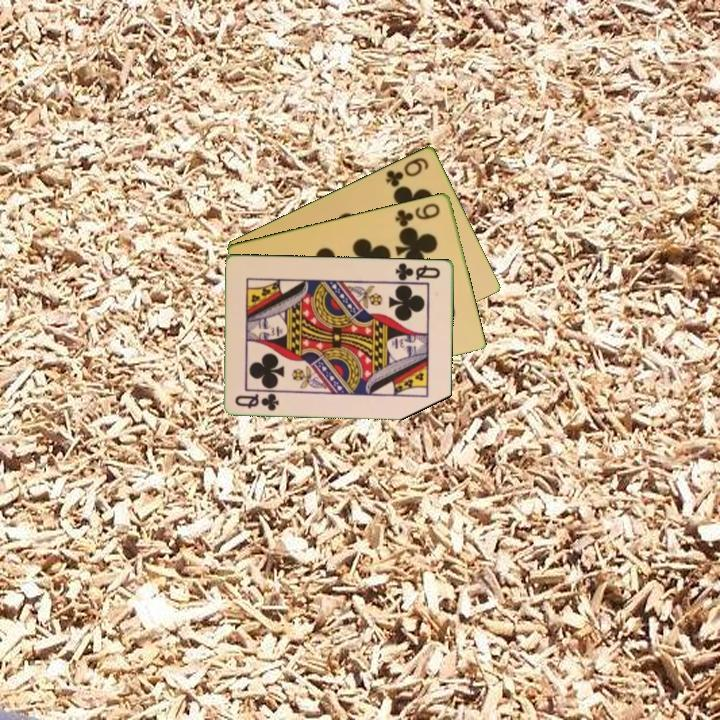6c: (382, 153, 432, 190)
9c: (391, 199, 443, 229)
Qc: (392, 259, 443, 283), (232, 390, 282, 413)
